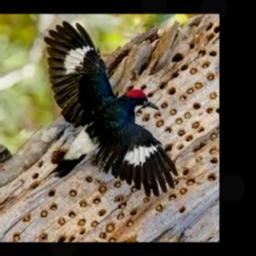Woodpecker: (44, 21, 178, 196)
